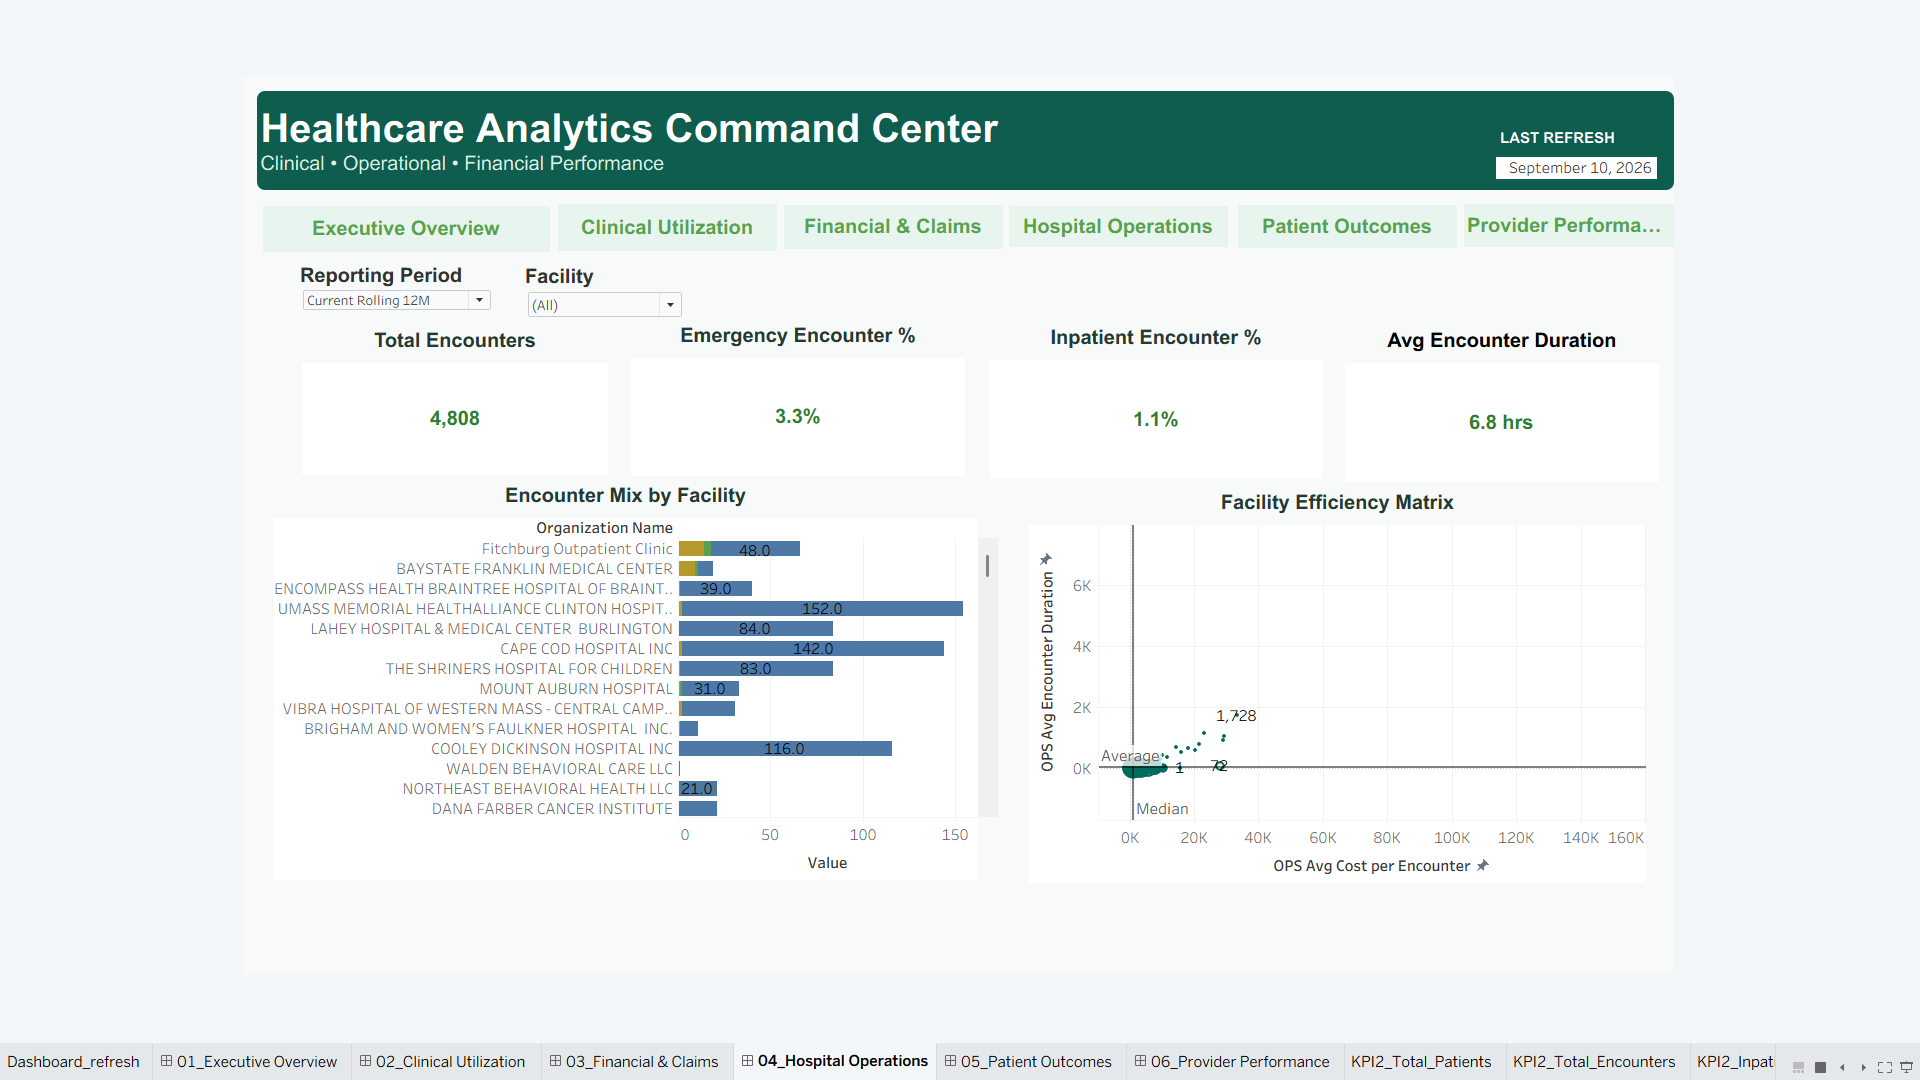

The page's visual inventory and layout, read from the dashboard file:
{"tool":"tableau","page":{"name":"04_Hospital Operations","canvas":[1440,900],"ordinal":3},"visuals":[{"type":"text","box":[13,16,1425,107]},{"type":"dashboard-object","box":[318,133,219,47]},{"type":"dashboard-object","box":[1224,133,210,43]},{"type":"dashboard-object","box":[544,134,219,44]},{"type":"dashboard-object","box":[998,134,219,43]},{"type":"dashboard-object","box":[23,135,287,46]},{"type":"dashboard-object","box":[769,135,219,41]},{"type":"parameter","param":"[Parameters].[Parameter 0280968702808064]","box":[60,193,194,48]},{"type":"worksheet","title":"OPS_KPI_Emergency_Share","mark":"Automatic","box":[391,249,334,156]},{"type":"worksheet","title":"OPS_KPI_Inpatient_Share","mark":"Automatic","box":[749,251,334,157]},{"type":"worksheet","title":"OPS_KPI_Total_Encounters","mark":"Automatic","box":[62,254,306,150]},{"type":"worksheet","title":"OPS_KPI_Avg_Duration","mark":"Automatic","box":[1105,254,314,157]},{"type":"worksheet","title":"OPS_CHT_Encounter_Mix","mark":"Automatic","rows":["organization_name"],"box":[34,409,724,400]},{"type":"worksheet","title":"OPS_CHT_Facility_Efficiency","mark":"Automatic","rows":["Calculation_0280968784441366"],"cols":["Calculation_0280968784355349"],"box":[789,416,617,396]}]}

Visuals, with their boxes on the page's 1440x900 design canvas (x1, y1, x2, y2). These are canvas units, not pixel positions in the 1920x1080 screenshot, which may show the page scaled, cropped or inside an application window:
text: pyautogui.locateOnScreen(13, 16, 1438, 123)
dashboard-object: pyautogui.locateOnScreen(318, 133, 537, 180)
dashboard-object: pyautogui.locateOnScreen(1224, 133, 1434, 176)
dashboard-object: pyautogui.locateOnScreen(544, 134, 763, 178)
dashboard-object: pyautogui.locateOnScreen(998, 134, 1217, 177)
dashboard-object: pyautogui.locateOnScreen(23, 135, 310, 181)
dashboard-object: pyautogui.locateOnScreen(769, 135, 988, 176)
parameter: pyautogui.locateOnScreen(60, 193, 254, 241)
"OPS_KPI_Emergency_Share" worksheet: pyautogui.locateOnScreen(391, 249, 725, 405)
"OPS_KPI_Inpatient_Share" worksheet: pyautogui.locateOnScreen(749, 251, 1083, 408)
"OPS_KPI_Total_Encounters" worksheet: pyautogui.locateOnScreen(62, 254, 368, 404)
"OPS_KPI_Avg_Duration" worksheet: pyautogui.locateOnScreen(1105, 254, 1419, 411)
"OPS_CHT_Encounter_Mix" worksheet: pyautogui.locateOnScreen(34, 409, 758, 809)
"OPS_CHT_Facility_Efficiency" worksheet: pyautogui.locateOnScreen(789, 416, 1406, 812)
